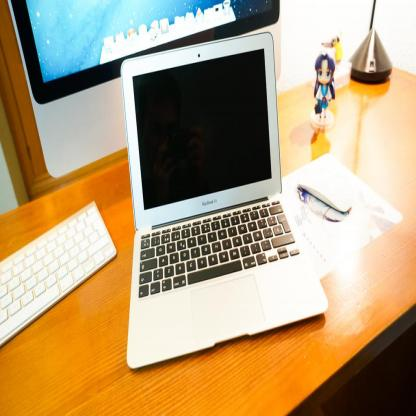board: (126, 24, 328, 370)
